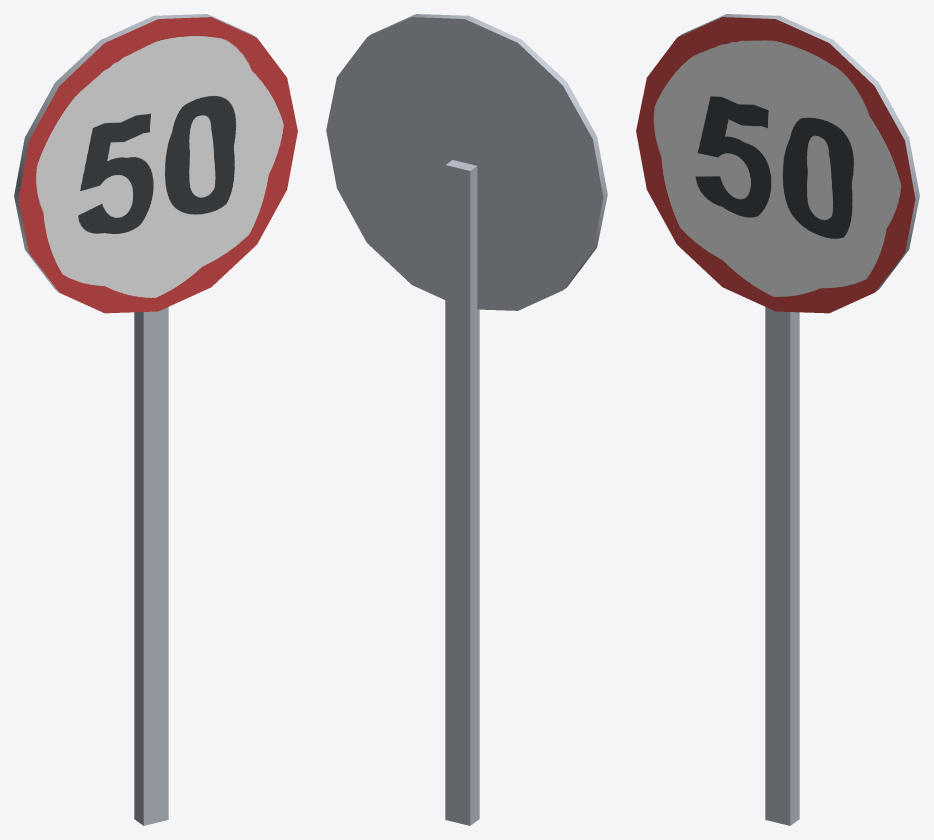
The model's file is speed-limit-sign.fbx.
The picture shows the model from 3 angles, left to right: view 1: azimuth 30°, elevation 25°; view 2: azimuth 150°, elevation 25°; view 3: azimuth 330°, elevation 25°; orthographic projection.
Visible parts, largest first — view 1: 1.3 speed-limit-sign; view 2: 1.3 speed-limit-sign; view 3: 1.3 speed-limit-sign.
Boxes of the visible parts, x1,y1,x2,y2 form: 1.3 speed-limit-sign: (14,14,297,825); 1.3 speed-limit-sign: (326,14,607,825); 1.3 speed-limit-sign: (636,14,919,825).
Bounding box in the file's own units: 0.5435 × 1.5 × 0.0386.
